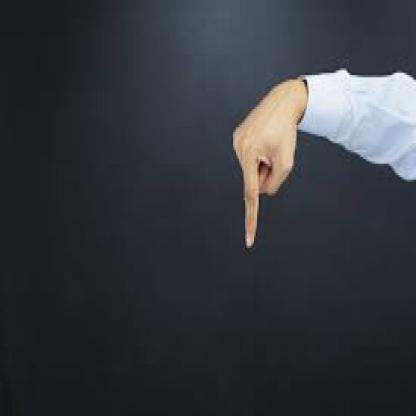Down: (219, 79, 305, 253)
